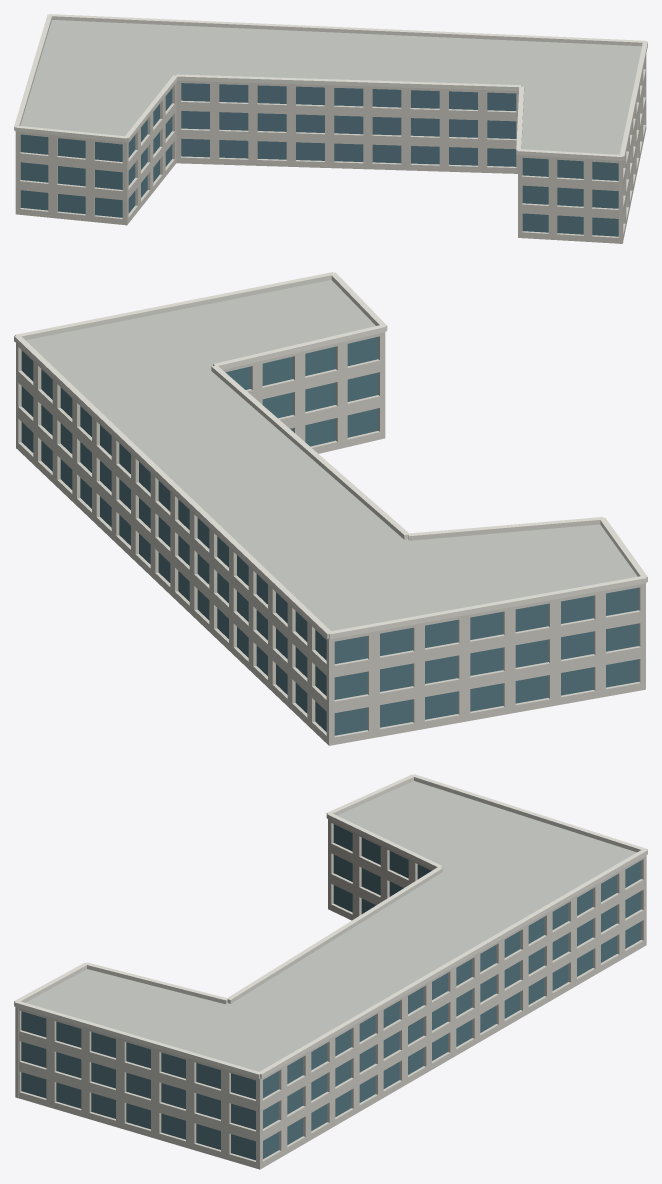
The model's file is sb_1556523912.far.glb.
The picture shows the model from 3 angles, top to bottom: view 1: azimuth 30°, elevation 25°; view 2: azimuth 150°, elevation 25°; view 3: azimuth 270°, elevation 25°; orthographic projection. The views are drawn at different scales.
Parts seen in each view (by area): view 1: roof, wall, glass, trim; view 2: roof, wall, glass, trim; view 3: roof, wall, glass, trim.
Boxes of the visible parts, bbox=[...] form: roof: bbox=[20, 20, 641, 154]; wall: bbox=[15, 54, 646, 243]; glass: bbox=[20, 83, 618, 236]; trim: bbox=[14, 14, 647, 160]; roof: bbox=[26, 280, 637, 630]; wall: bbox=[16, 332, 645, 745]; glass: bbox=[21, 337, 638, 735]; trim: bbox=[14, 272, 647, 639]; roof: bbox=[25, 781, 636, 1071]; wall: bbox=[15, 819, 646, 1169]; glass: bbox=[21, 824, 640, 1160]; trim: bbox=[14, 774, 647, 1078].
Bounding box in the file's own units: 65.55 × 9.74 × 58.48.
